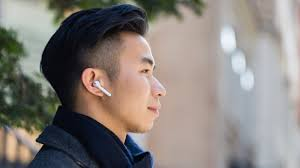earphone: (81, 67, 113, 98)
